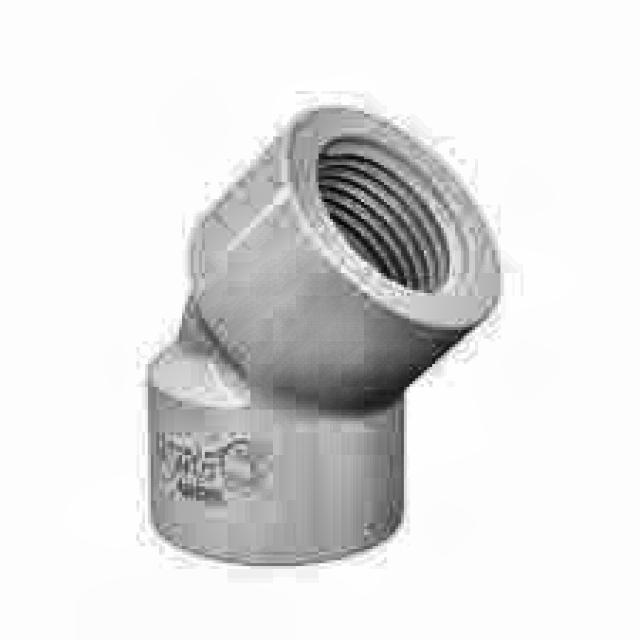ELBOW45: (145, 105, 503, 572)
